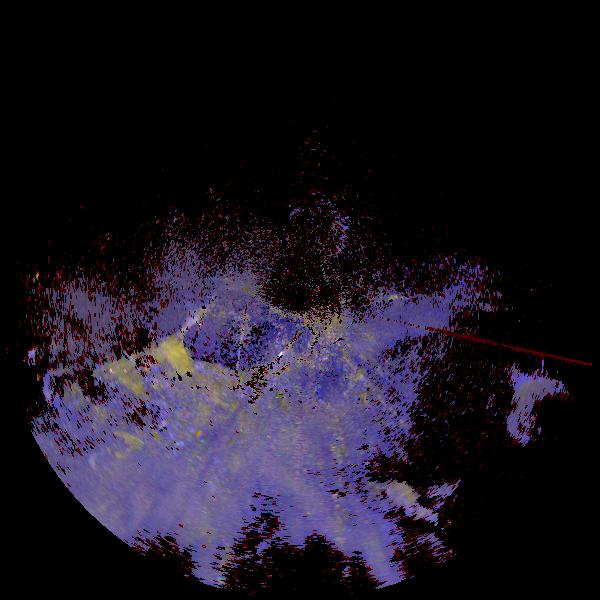roost: (132, 322, 207, 397)
